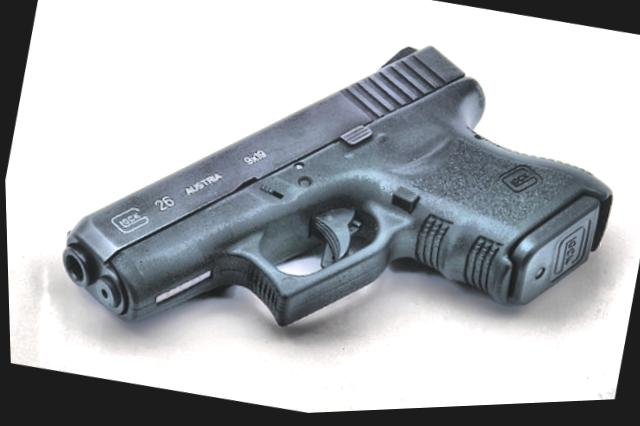pistol: (23, 0, 640, 425)
